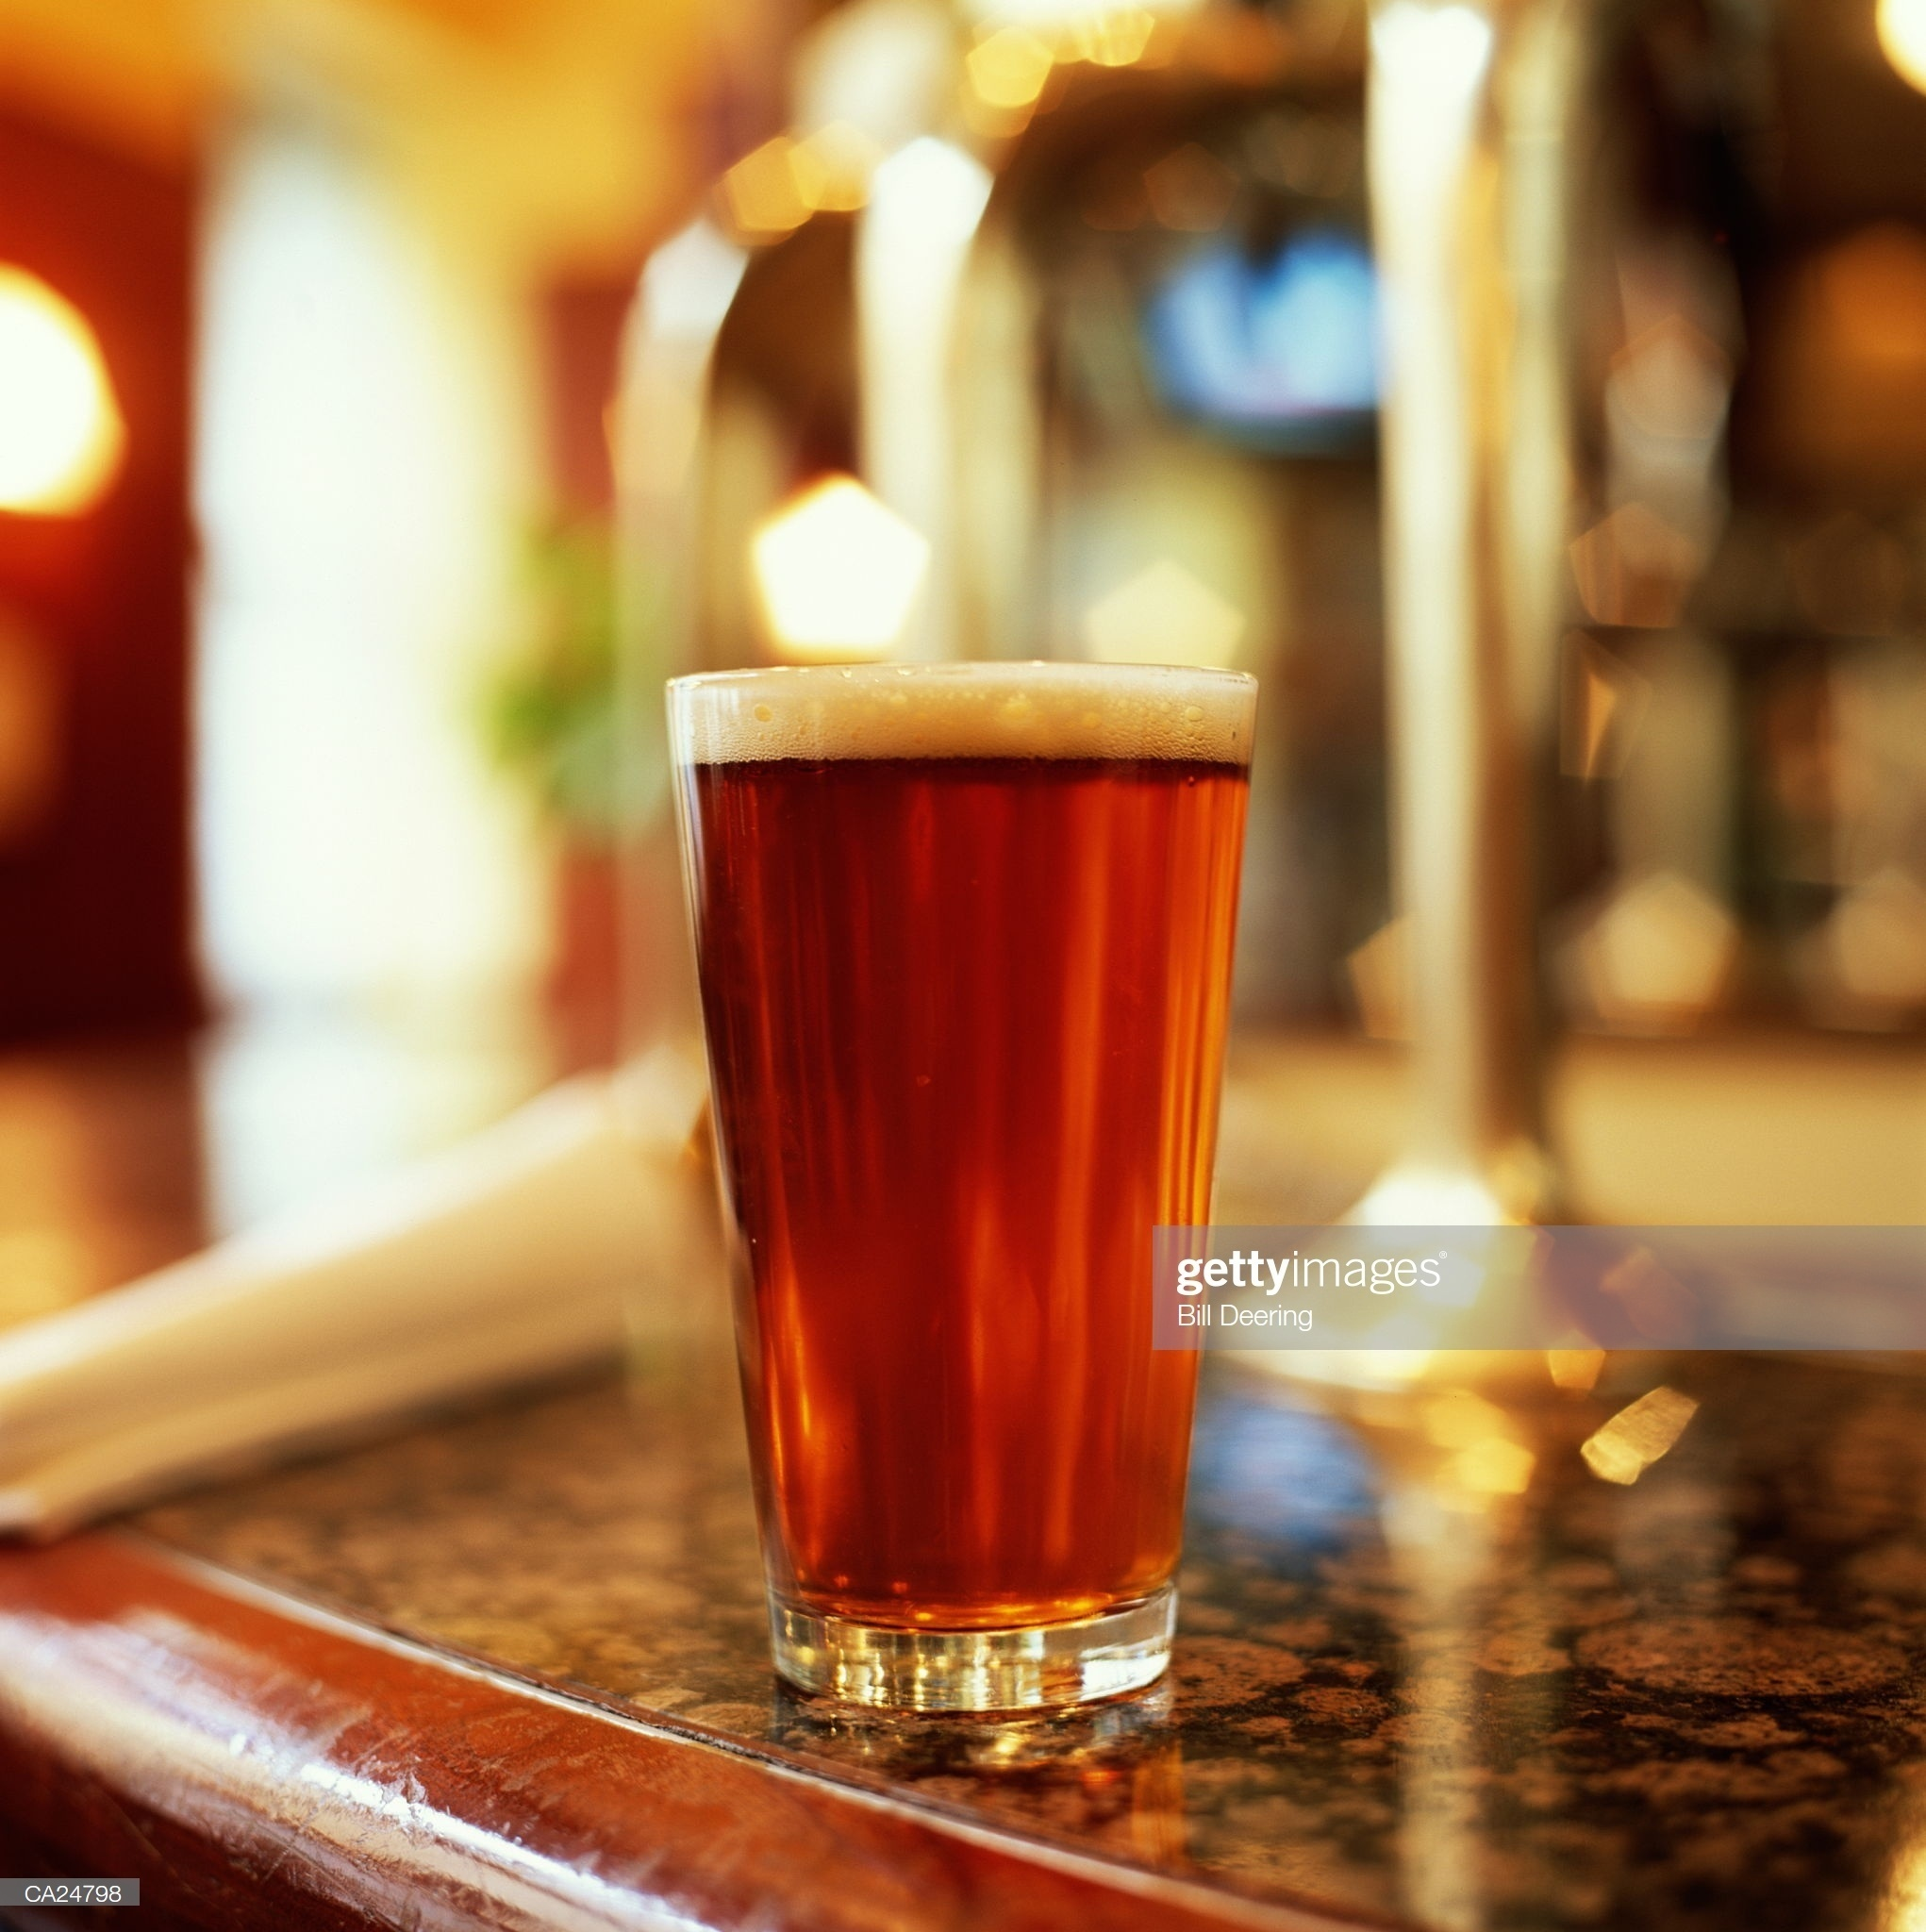whiskey: (690, 683, 1300, 1703)
